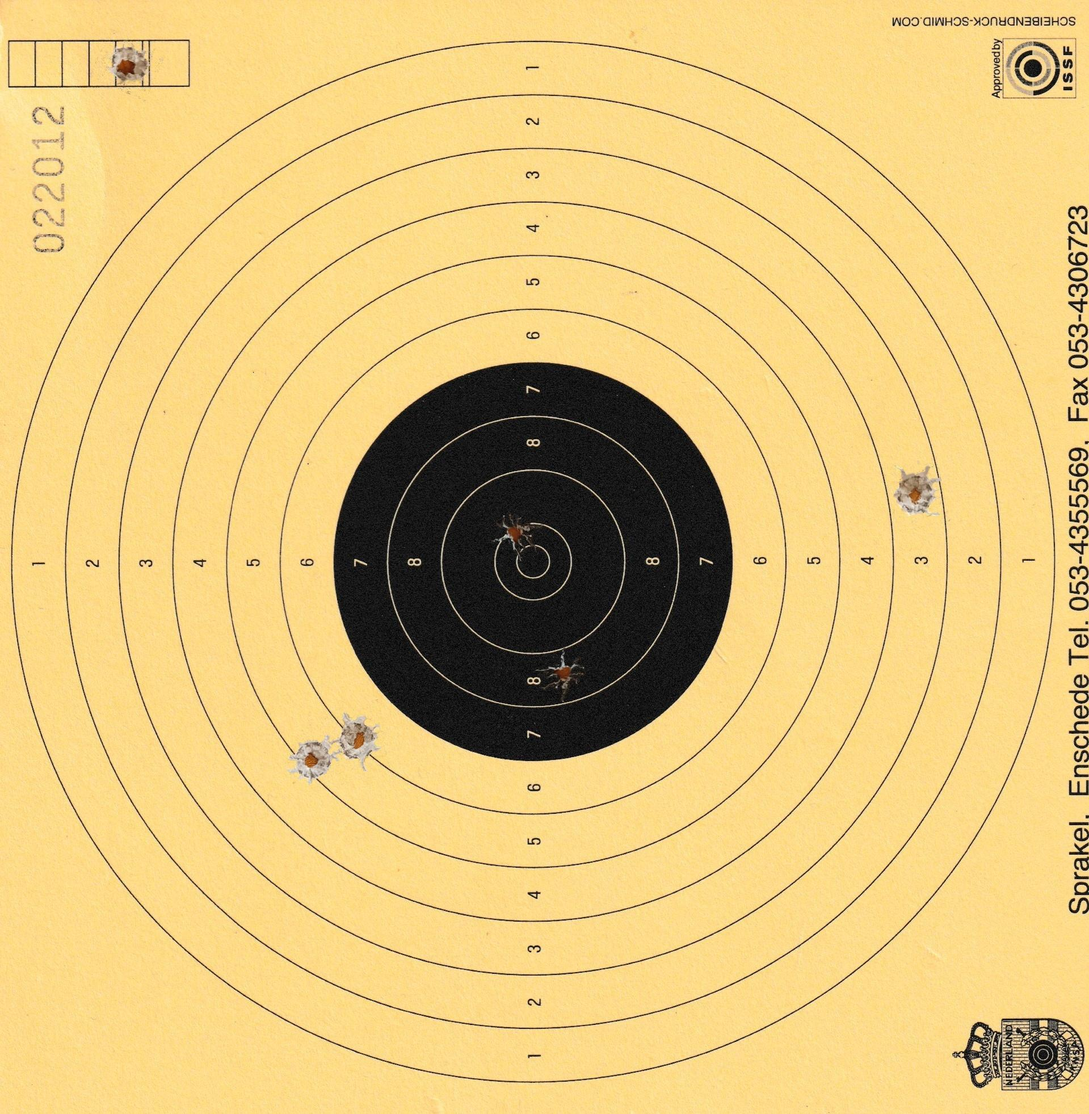hole: (893, 468, 943, 518), (335, 714, 380, 768), (289, 737, 333, 781), (540, 649, 580, 697), (106, 44, 149, 86), (497, 518, 533, 549)
